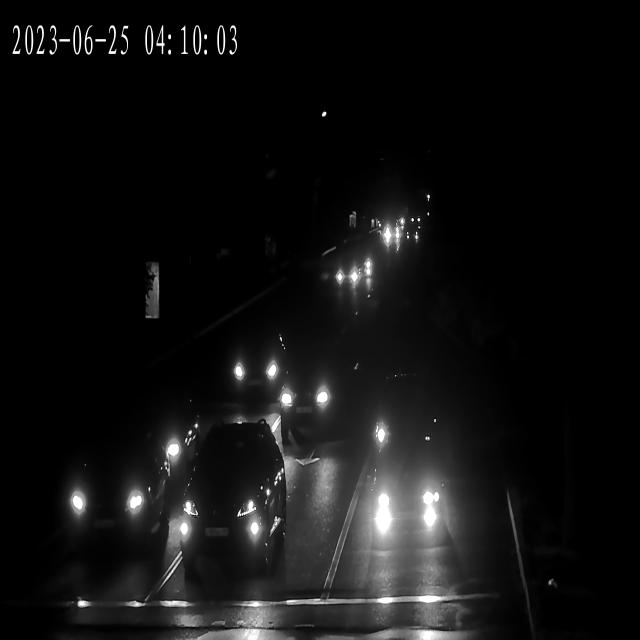Car: (163, 420, 287, 576), (54, 438, 170, 558), (362, 454, 449, 550), (119, 395, 198, 484), (368, 391, 451, 465), (272, 356, 336, 421), (222, 329, 283, 389), (335, 260, 366, 289), (383, 227, 402, 243)
